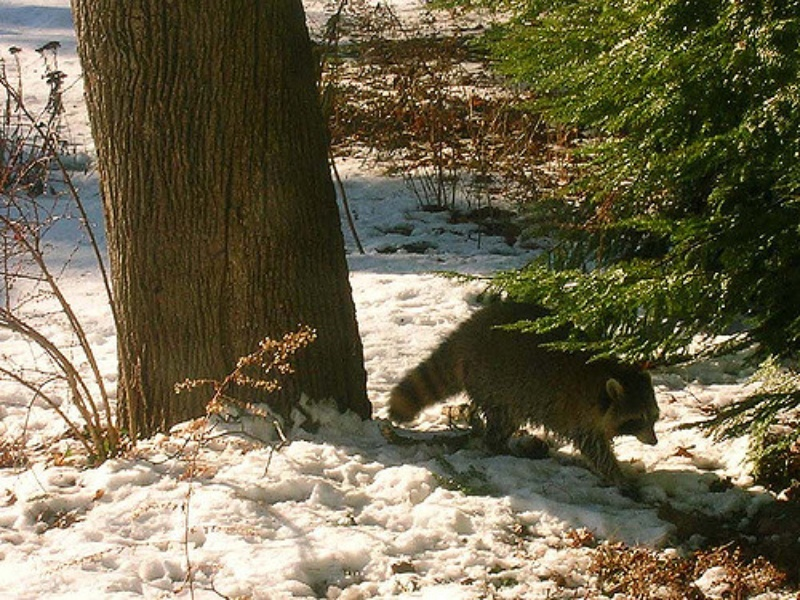raccoon: (388, 301, 667, 504)
